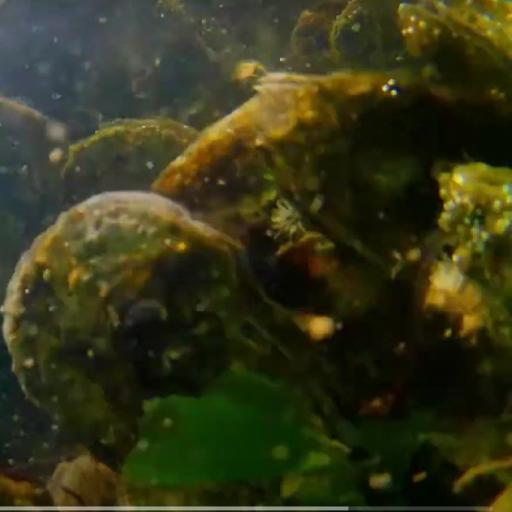Oyster-Closed: (1, 197, 361, 512), (245, 74, 465, 273)
Oyster-Open: (62, 118, 205, 207), (398, 3, 512, 110), (47, 454, 123, 506)
